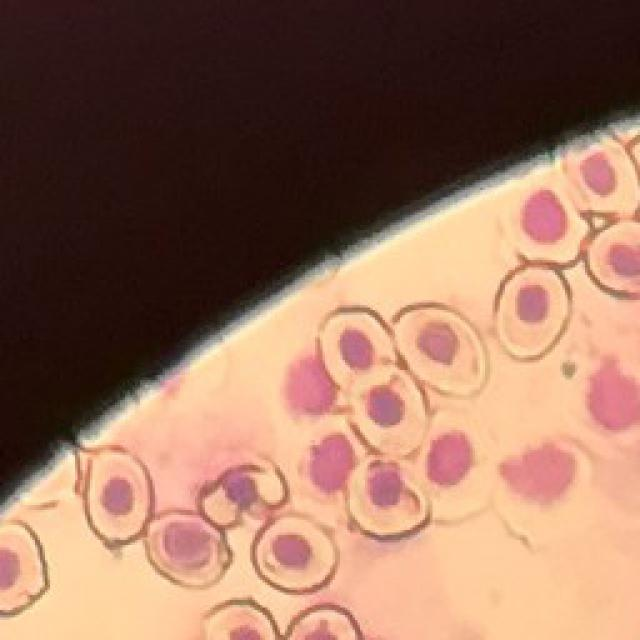RBC: (498, 170, 595, 269), (416, 409, 497, 524), (394, 304, 488, 396), (346, 360, 430, 459), (315, 304, 406, 394), (346, 456, 433, 543), (495, 266, 571, 359), (198, 459, 289, 532), (563, 136, 640, 222), (254, 515, 338, 592), (84, 450, 152, 544), (146, 512, 230, 586), (0, 521, 49, 614), (588, 221, 640, 297), (204, 600, 278, 640), (286, 604, 362, 640)
WBC: (500, 442, 575, 502), (589, 360, 640, 430), (285, 352, 336, 415), (311, 434, 354, 492)
